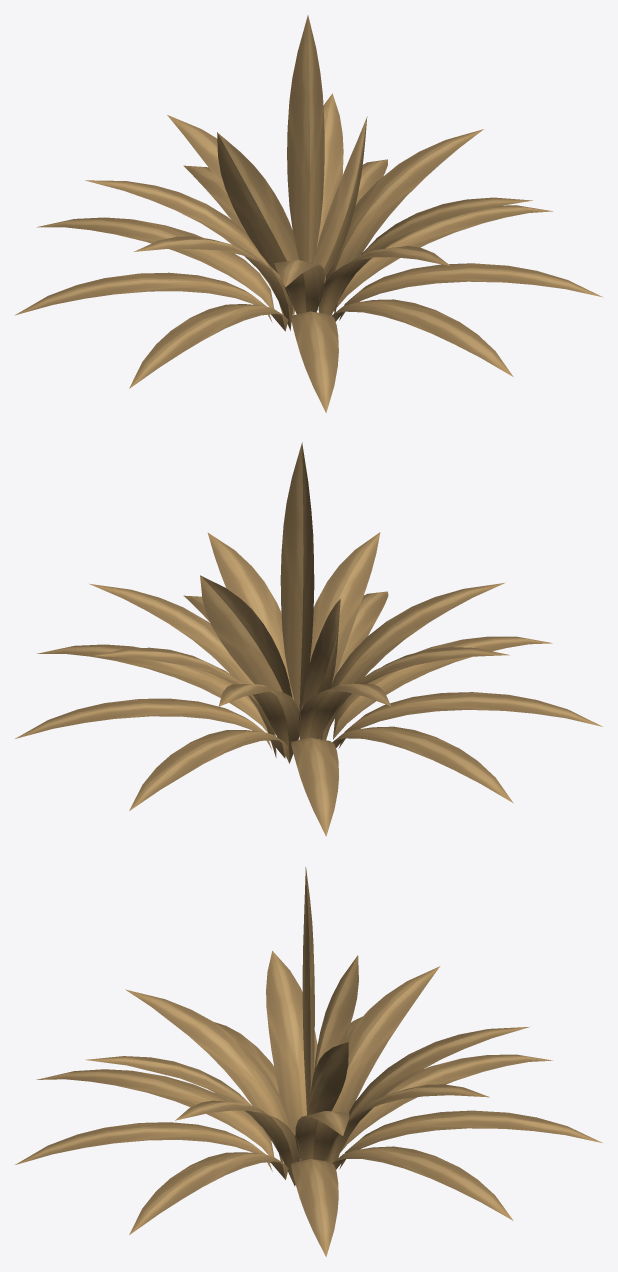
File: buisson.FBX
3 renders of one model, top to bottom at view 1: azimuth 30°, elevation 25°; view 2: azimuth 150°, elevation 25°; view 3: azimuth 270°, elevation 25°, orthographic.
Parts seen in each view (by area): view 1: Plane012; view 2: Plane012; view 3: Plane012.
Part boxes in pixels (x1=…): Plane012: x1=15, y1=15, x2=603, y2=412; Plane012: x1=15, y1=442, x2=602, y2=836; Plane012: x1=15, y1=867, x2=602, y2=1256.
Bounding box in the file's own units: 146 × 85.55 × 146.
Materials: 1 (1 with a texture image).
